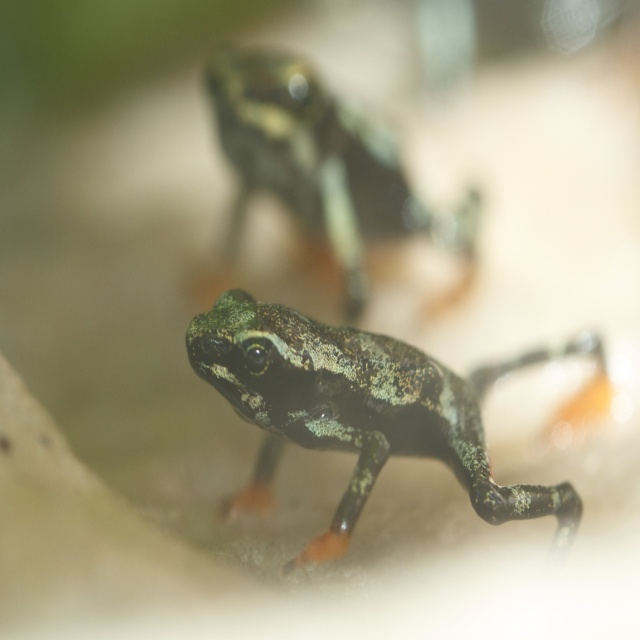Frog: (184, 285, 616, 576), (186, 40, 482, 328)
